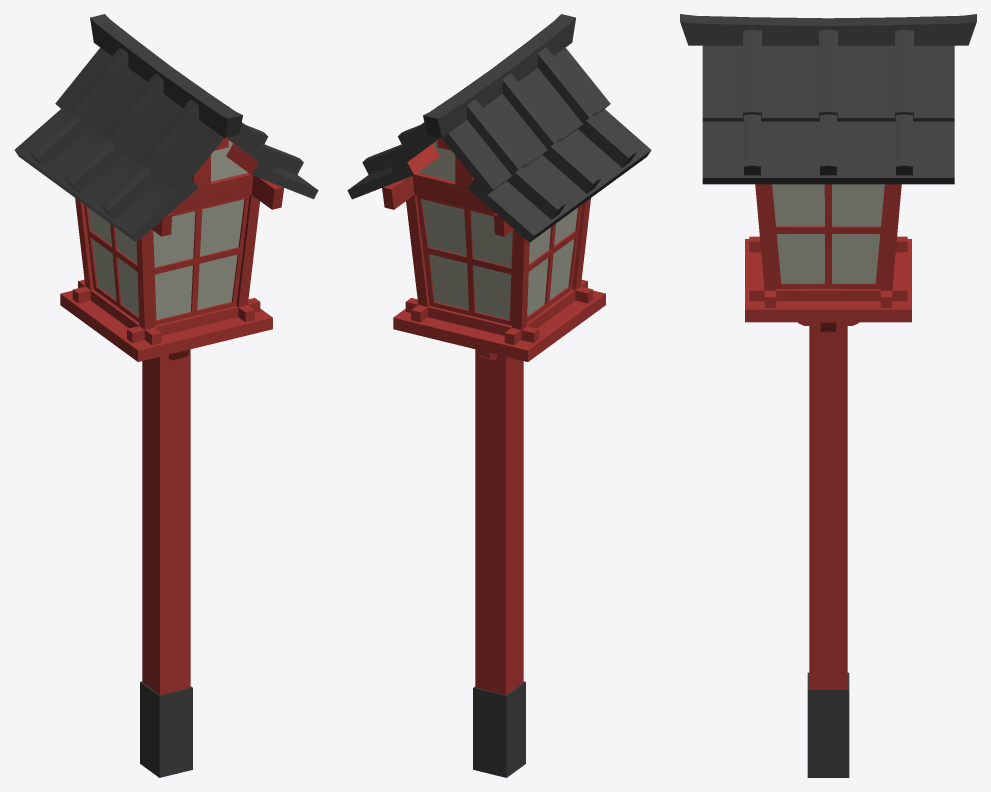
Rendered from Prop_TraditionalStreetLamp_FabianZ_M.fbx.
3 views of the same model, side by side, from view 1: azimuth 30°, elevation 25°; view 2: azimuth 150°, elevation 25°; view 3: azimuth 270°, elevation 25° (orthographic). The views are drawn at different scales.
Visible parts, largest first — view 1: TraditionalStreetLamp; view 2: TraditionalStreetLamp; view 3: TraditionalStreetLamp.
Part boxes in pixels (x1,y1,x2,y2): TraditionalStreetLamp: (14,14,318,777); TraditionalStreetLamp: (347,14,651,777); TraditionalStreetLamp: (680,14,976,777).
Size of what is drawn, in the model's own units: 56.54 by 193 by 69.25.
